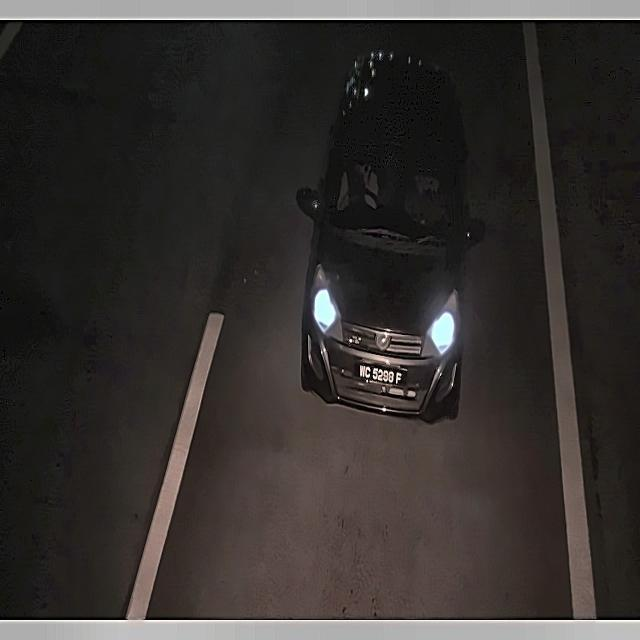car: (352, 356, 411, 392)
